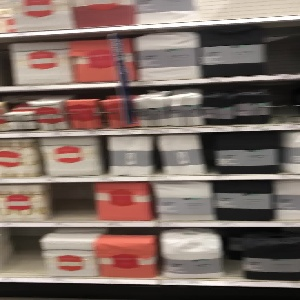void: (1, 225, 42, 277), (48, 181, 94, 226), (199, 1, 300, 21), (265, 19, 300, 75), (268, 77, 300, 123)
